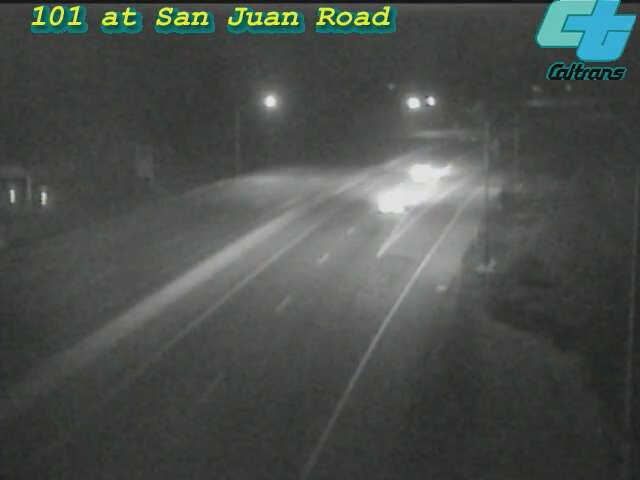vehicle: (382, 133, 462, 213), (349, 167, 429, 247)
